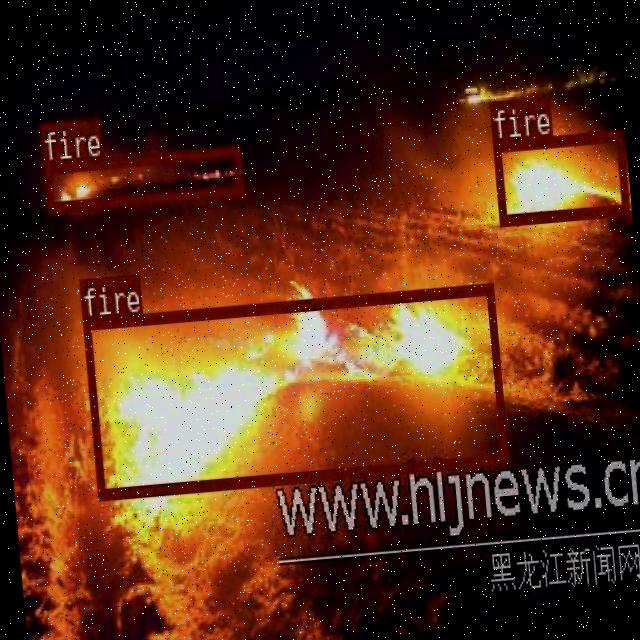fire: (82, 281, 507, 497), (42, 145, 244, 212), (492, 127, 626, 222)
